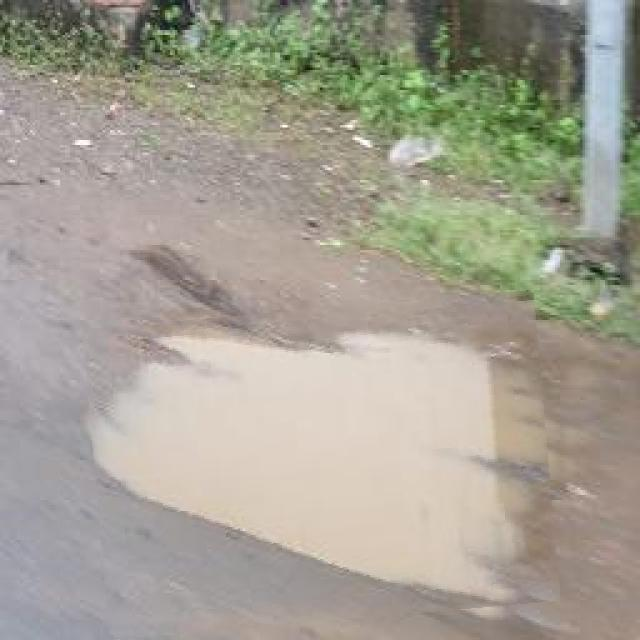puddle: (90, 301, 555, 632)
